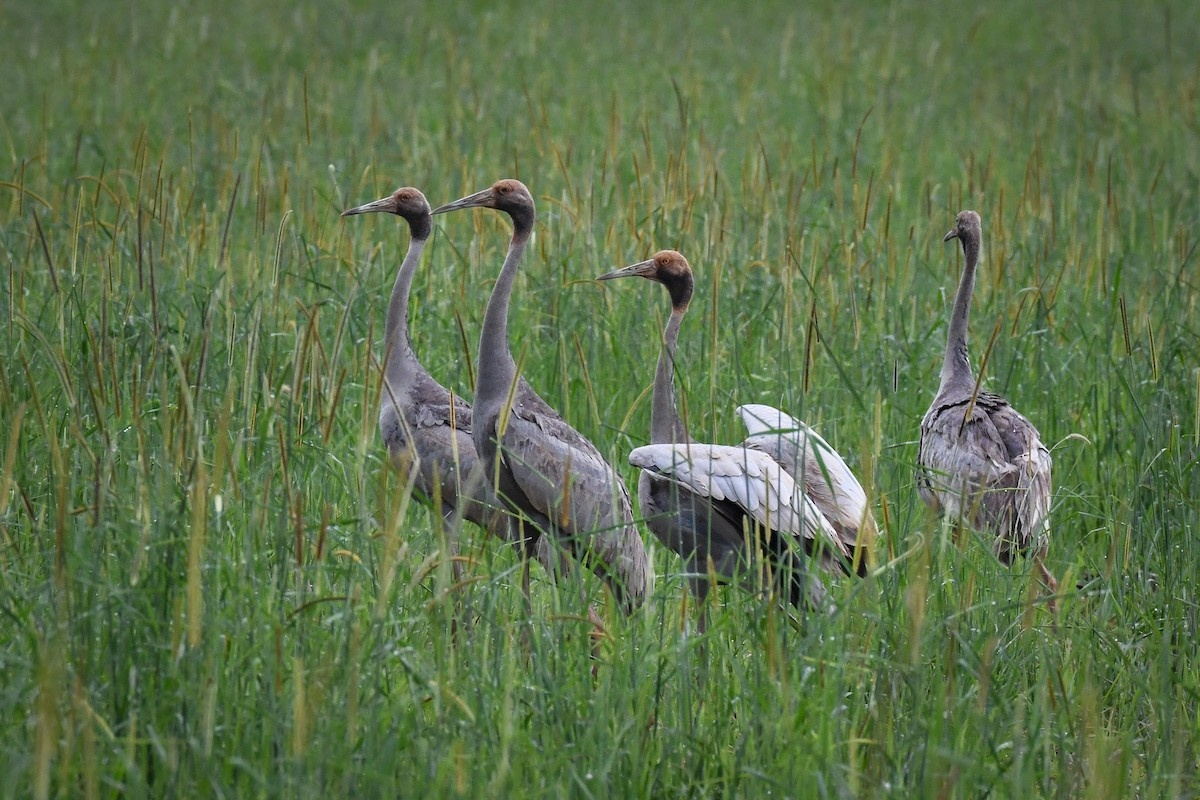crane: (596, 231, 874, 617), (438, 166, 652, 613), (916, 196, 1059, 580), (344, 166, 486, 505)
